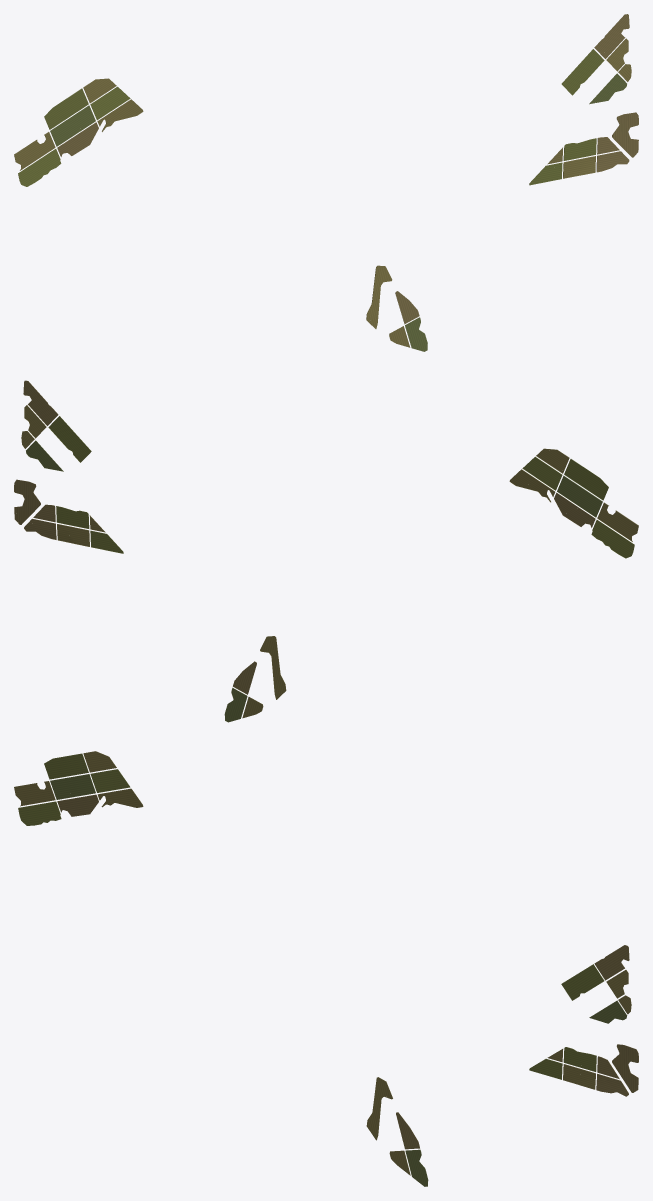
File: context-field-faces.glb
3 views of the same model, one above another, from view 1: azimuth 30°, elevation 25°; view 2: azimuth 150°, elevation 25°; view 3: azimuth 330°, elevation 25° (orthographic).
Visible parts, largest first — view 1: world; view 2: world; view 3: world.
Boxes of the visible parts, x1,y1,x2,y2 form: world: (14, 14, 638, 351); world: (14, 380, 638, 722); world: (14, 751, 638, 1186).
Bounding box in the file's own units: 1011 × 546 × 8.17.
